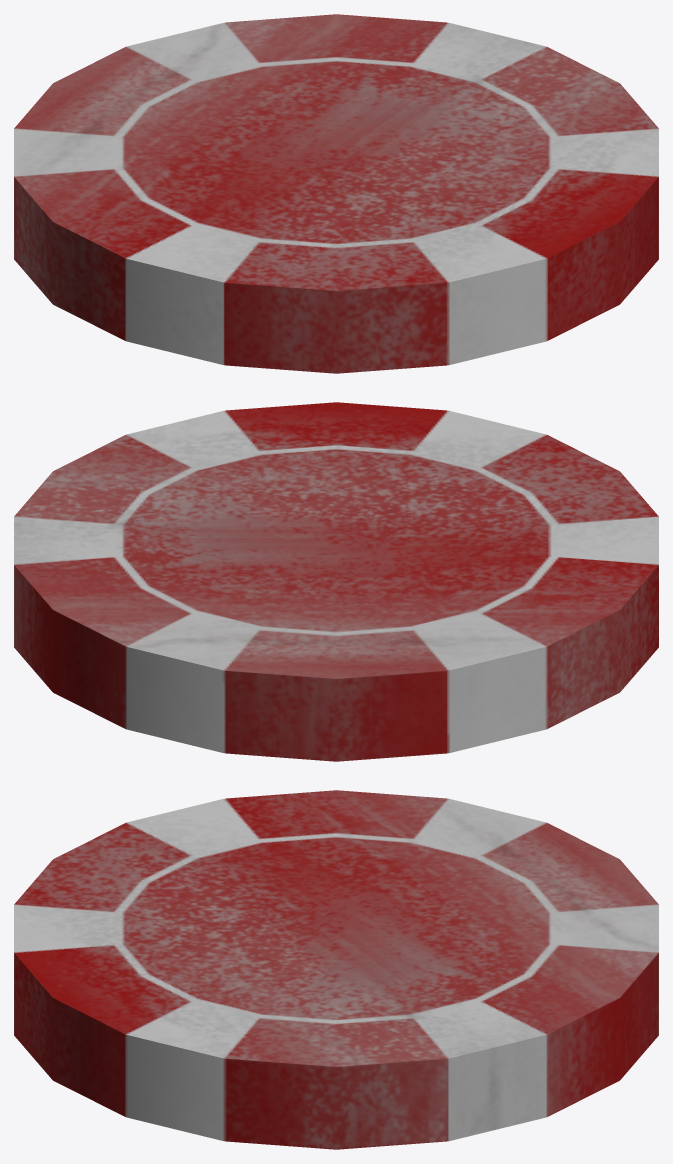
The model's file is Ficha.fbx.
The picture shows the model from 3 angles, top to bottom: view 1: azimuth 30°, elevation 25°; view 2: azimuth 150°, elevation 25°; view 3: azimuth 270°, elevation 25°; orthographic projection.
Visible parts, largest first — view 1: Cylinder001; view 2: Cylinder001; view 3: Cylinder001.
Boxes of the visible parts, x1,y1,x2,y2 form: Cylinder001: [14, 14, 658, 373]; Cylinder001: [14, 402, 658, 761]; Cylinder001: [14, 790, 658, 1149].
Size of the model in its own units: 23.05 by 3.21 by 22.7.
1 material, 1 textured.
